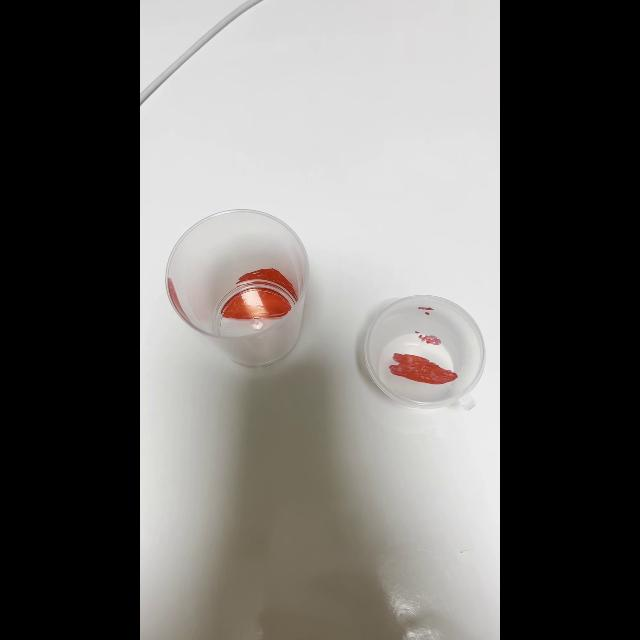dirty: (163, 200, 307, 368), (360, 287, 486, 415)
